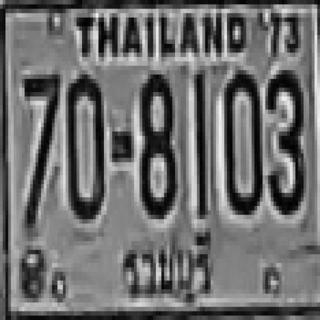N00: (67, 70, 105, 219), (222, 66, 260, 210)
N01: (193, 66, 207, 215)
N03: (267, 66, 302, 210)
N07: (22, 70, 60, 224), (22, 70, 60, 180)
N08: (138, 70, 176, 215)
P52: (121, 228, 218, 309)
